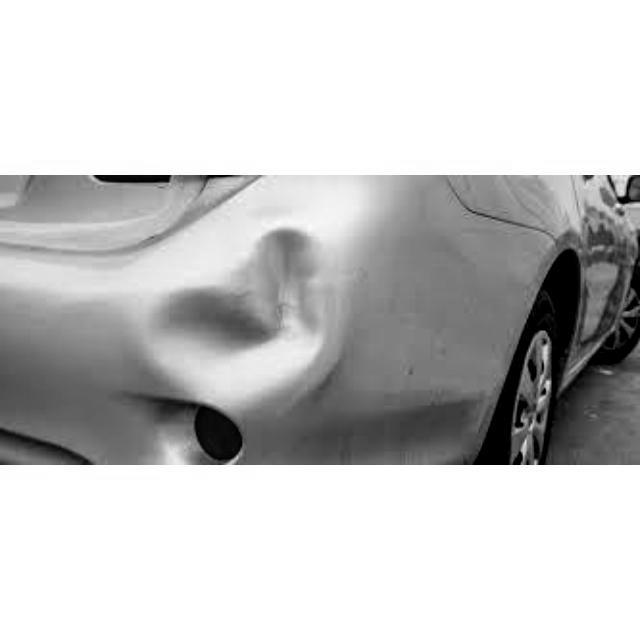rear-bumper-dent: (1, 221, 512, 463)
